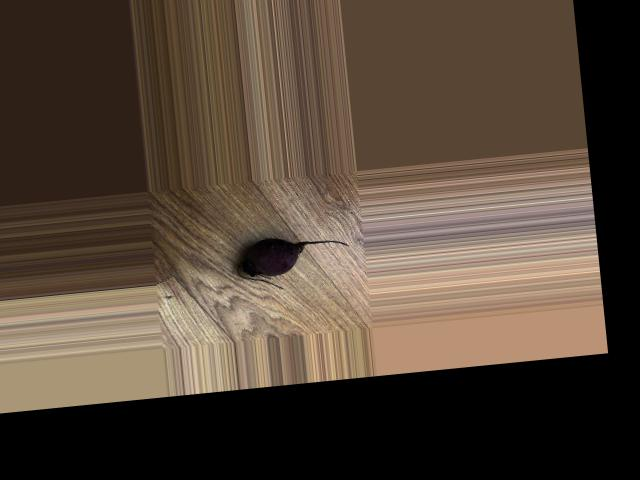beet: (234, 230, 353, 292)
